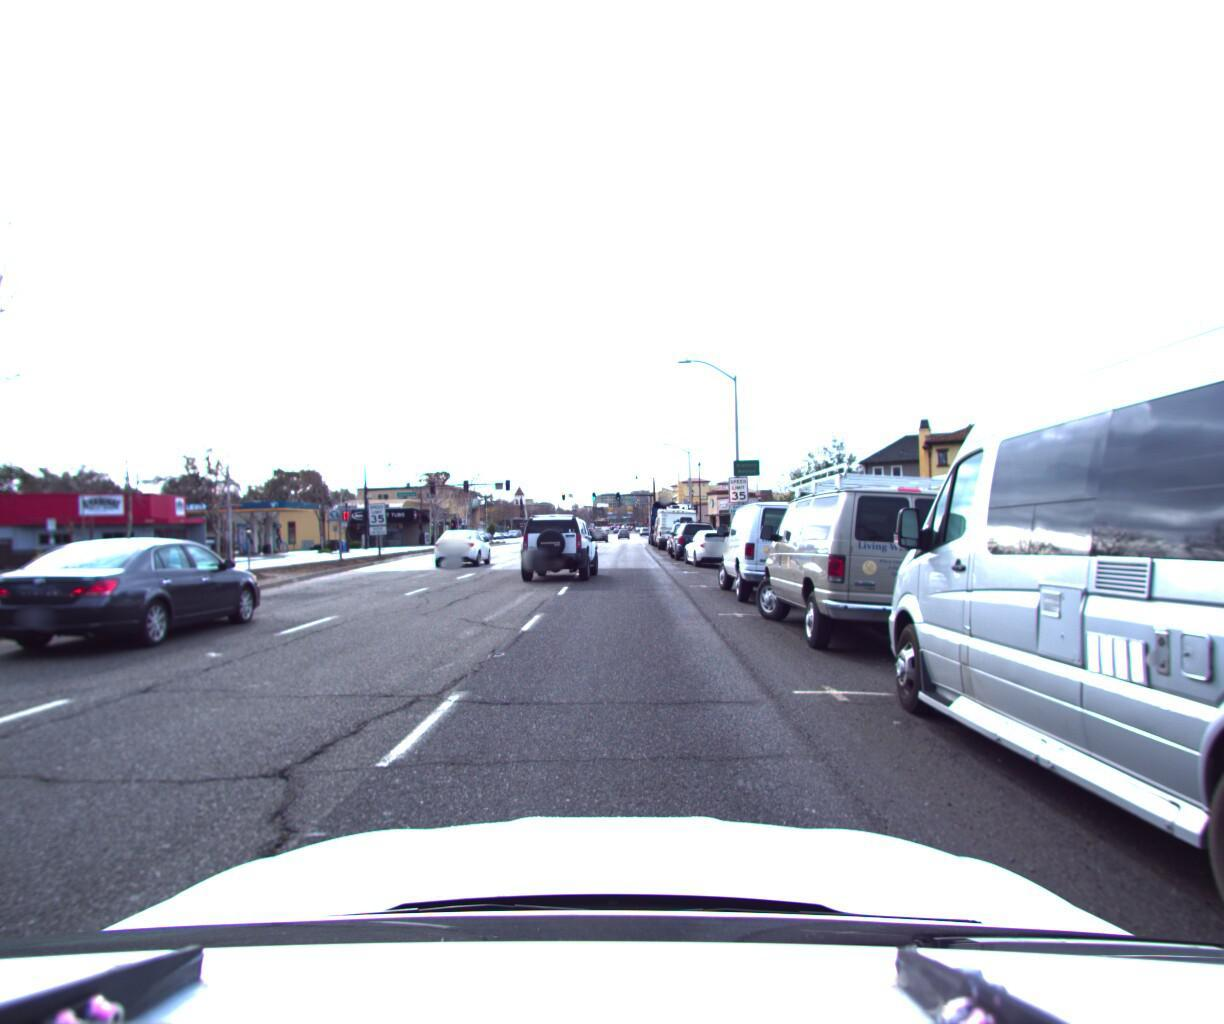car: (860, 0, 1224, 1024), (757, 460, 1009, 669), (0, 526, 276, 662), (717, 500, 853, 611), (508, 513, 598, 585), (430, 528, 496, 570), (683, 528, 743, 569), (669, 521, 720, 562), (668, 518, 710, 557)
other_vehicle: (656, 502, 699, 552)
truck: (650, 501, 684, 544)
